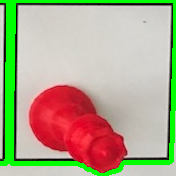Red Queen: (26, 82, 131, 176)
